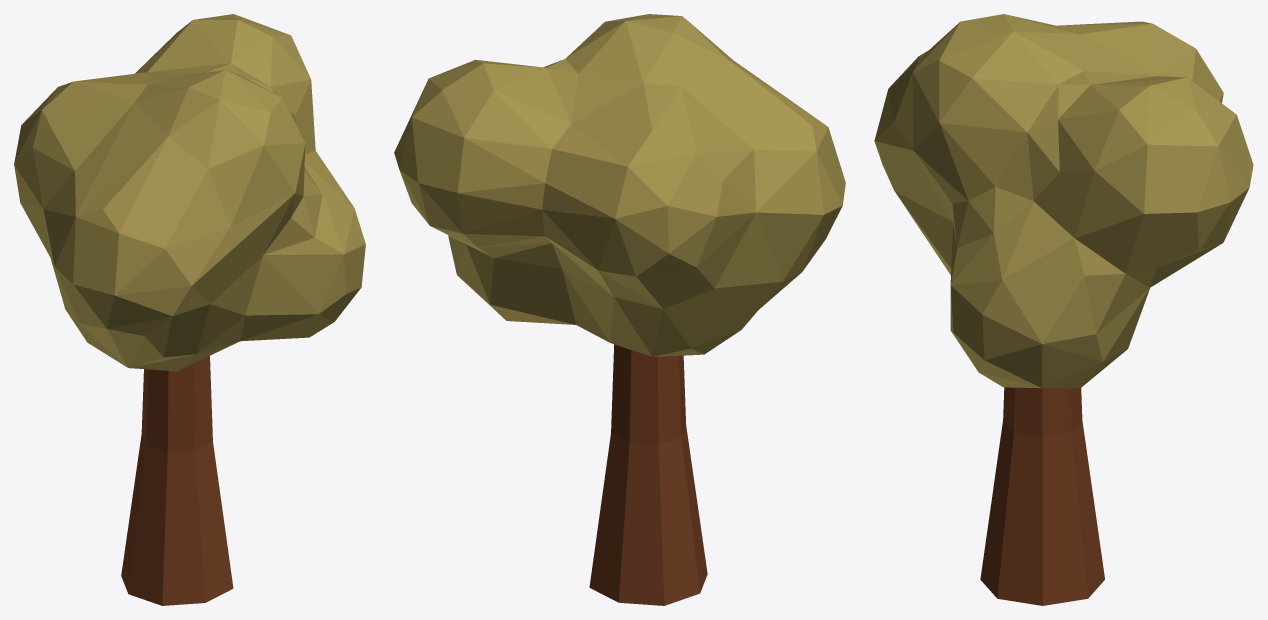
Rendered from tree3.fbx.
3 renders of one model, left to right at view 1: azimuth 30°, elevation 25°; view 2: azimuth 150°, elevation 25°; view 3: azimuth 270°, elevation 25°, orthographic. The views are drawn at different scales.
Parts seen in each view (by area): view 1: Cube.001; view 2: Cube.001; view 3: Cube.001.
Part boxes in pixels (left/top/right/bottom): Cube.001: left=14, top=14, right=365, bottom=605; Cube.001: left=394, top=14, right=845, bottom=605; Cube.001: left=874, top=14, right=1253, bottom=605.
Size of the model in its own units: 638 by 964 by 585.
